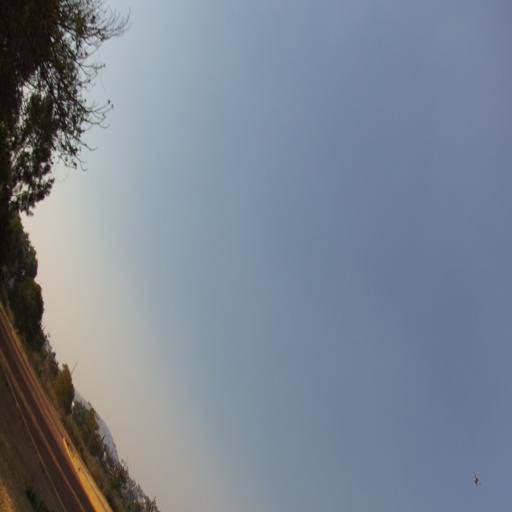drones: (472, 470, 481, 490)
